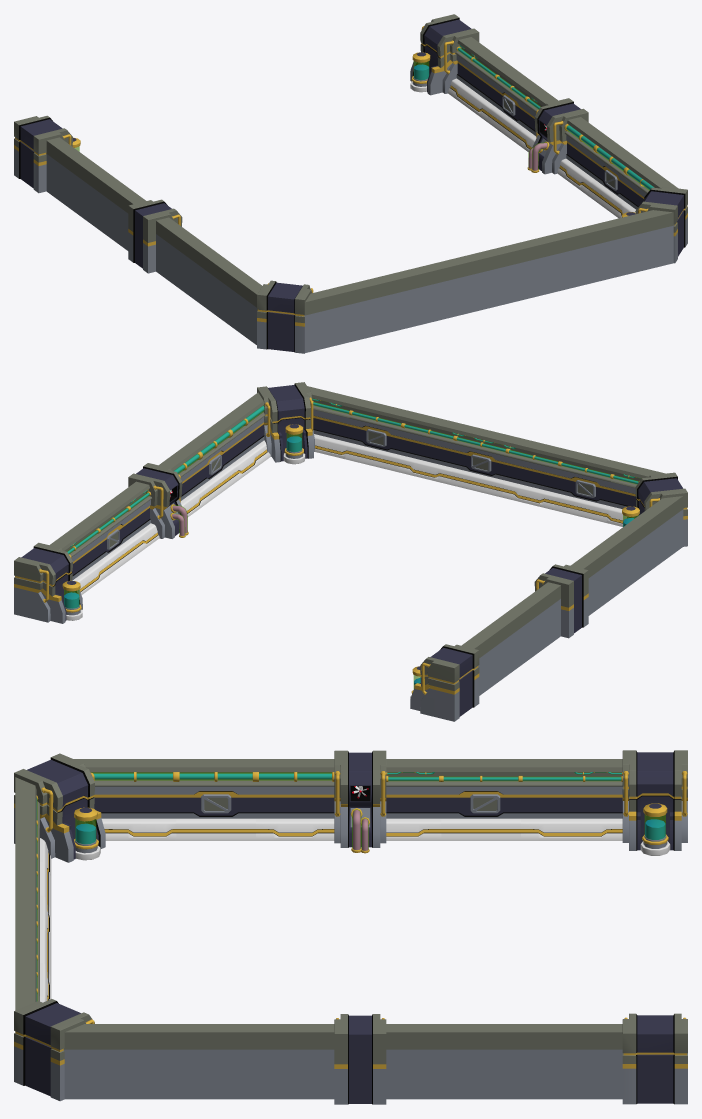
File: Level41.fbx
3 renders of one model, top to bottom at view 1: azimuth 30°, elevation 25°; view 2: azimuth 150°, elevation 25°; view 3: azimuth 270°, elevation 25°, orthographic. The views are drawn at different scales.
Visible parts, largest first — view 1: Base (×25), Bottle; view 2: Base (×25), Bottle (×2); view 3: Base (×25), Bottle (×2), Pipe1 (×3), Cage (×2), Pipe3.
Boxes of the visible parts, left/top/right/bottom form: Base (×25): left=14, top=14, right=687, bottom=353; Bottle: left=410, top=52, right=430, bottom=92; Base (×25): left=14, top=382, right=687, bottom=721; Bottle (×2): left=62, top=424, right=305, bottom=620; Base (×25): left=14, top=750, right=687, bottom=1104; Bottle (×2): left=74, top=803, right=670, bottom=860; Pipe1 (×3): left=91, top=772, right=334, bottom=781; Cage (×2): left=201, top=794, right=500, bottom=813; Pipe3: left=521, top=775, right=622, bottom=781.
Bounding box in the file's own units: 618 × 73.12 × 621.
